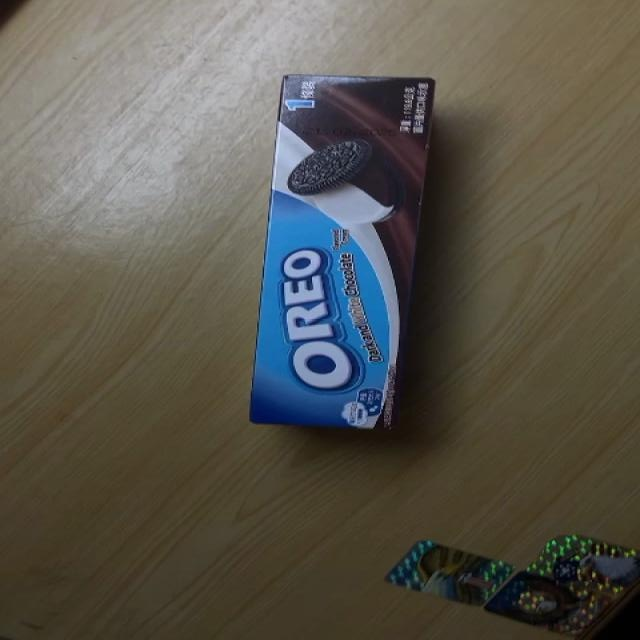Oreo: (248, 73, 442, 435)
